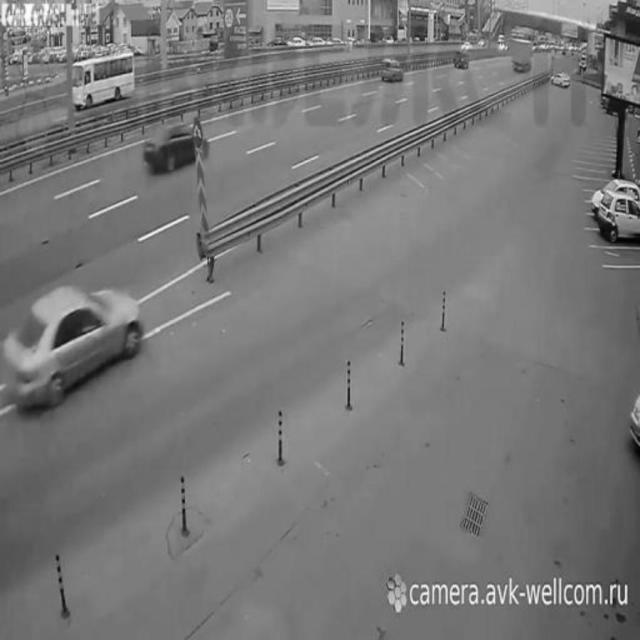vehicle: (5, 277, 141, 414), (73, 48, 134, 112), (145, 120, 196, 175), (597, 188, 639, 243), (379, 57, 406, 87), (513, 36, 535, 72), (550, 67, 572, 94), (452, 49, 472, 73)
